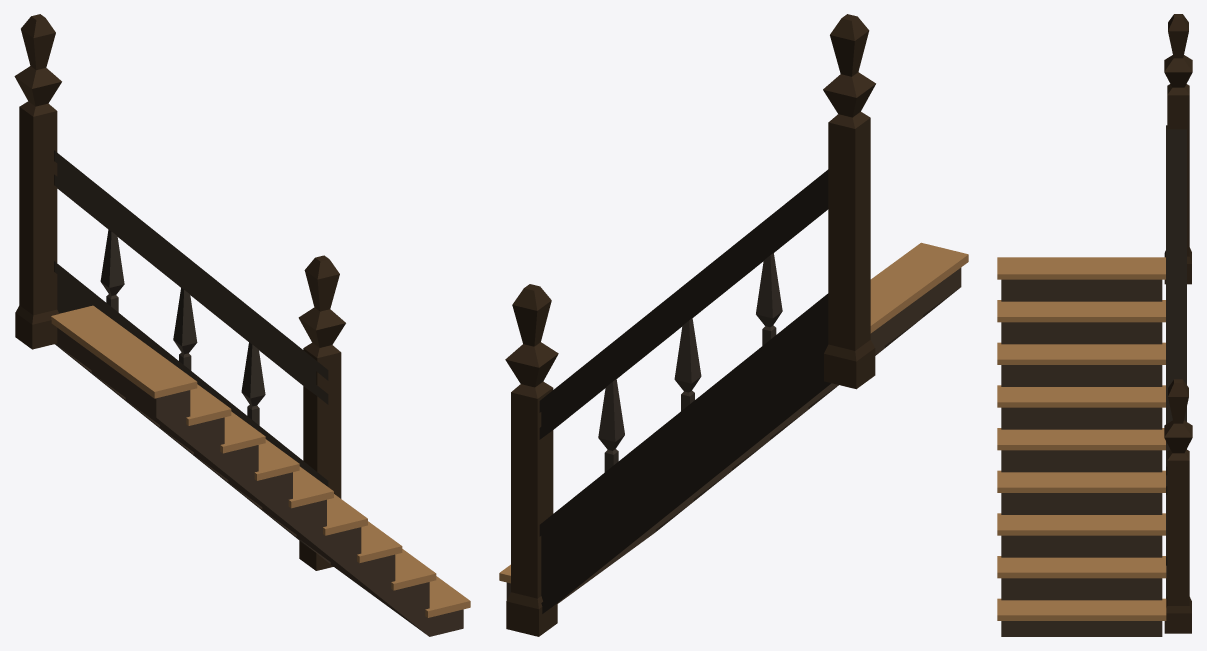
File: Stairs.fbx
3 renders of one model, left to right at view 1: azimuth 30°, elevation 25°; view 2: azimuth 150°, elevation 25°; view 3: azimuth 270°, elevation 25°, orthographic. The views are drawn at different scales.
Parts seen in each view (by area): view 1: Stairs; view 2: Stairs; view 3: Stairs.
Boxes of the visible parts, bbox=[...] form: Stairs: bbox=[14, 14, 470, 636]; Stairs: bbox=[499, 14, 968, 636]; Stairs: bbox=[997, 14, 1192, 636].
Bounding box in the file's own units: 3.28 × 5.72 × 2.03.
